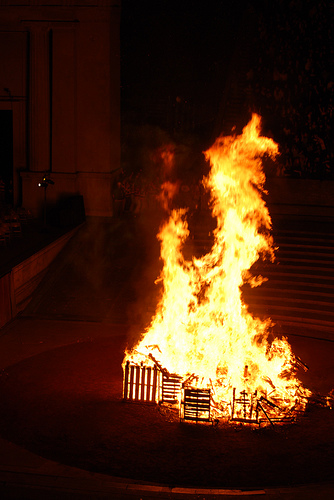fire: (140, 108, 308, 427)
